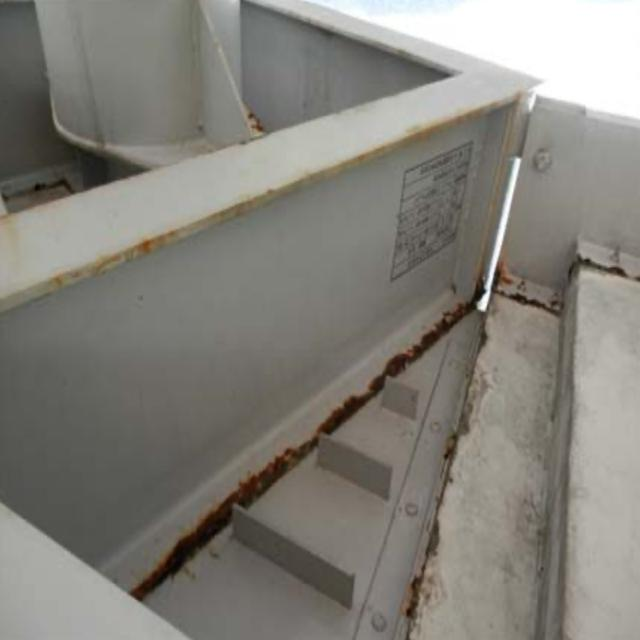corrosion: (100, 278, 539, 598)
